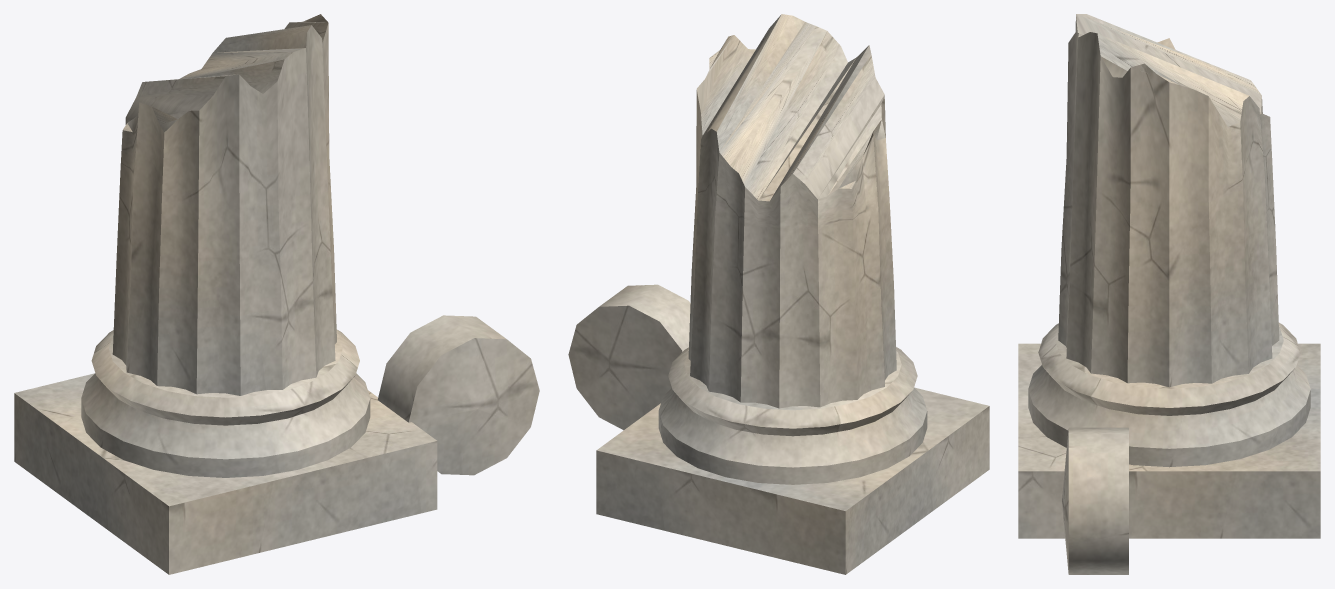
Rendered from column_stump.glb.
3 views of the same model, side by side, from view 1: azimuth 30°, elevation 25°; view 2: azimuth 150°, elevation 25°; view 3: azimuth 270°, elevation 25° (orthographic). The views are drawn at different scales.
Parts seen in each view (by area): view 1: OUT; view 2: OUT; view 3: OUT.
Boxes of the visible parts, left/top/right/bottom form: OUT: left=14, top=14, right=539, bottom=574; OUT: left=568, top=14, right=989, bottom=574; OUT: left=1018, top=14, right=1320, bottom=574.
Size of the model in its own units: 1.33 by 1.52 by 0.9.
Materials: 1 (1 with a texture image).
